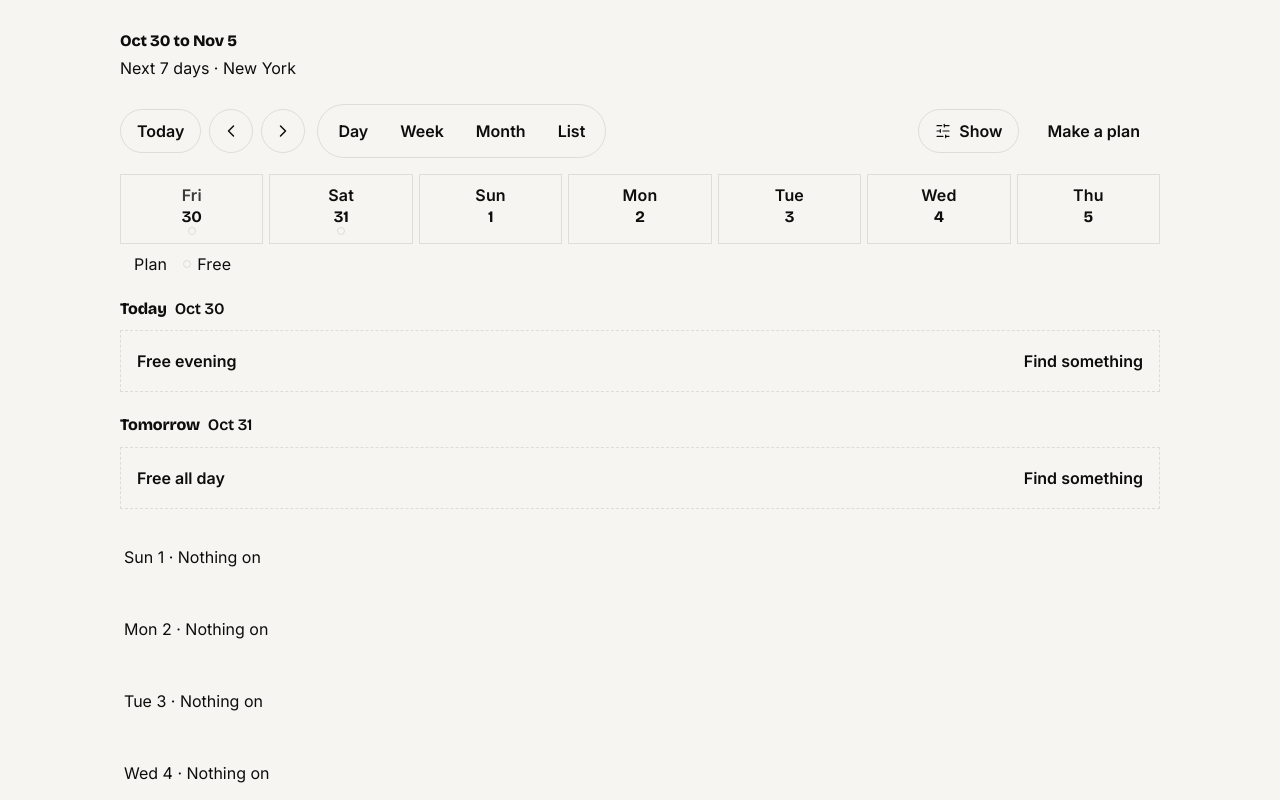
Test: Calendar, the four views › pages Week by 7 days and Day by 1
The width and height of the screenshot is (1280, 800).
Click the button named "Next week" at (283, 131), box [261,109,305,153]
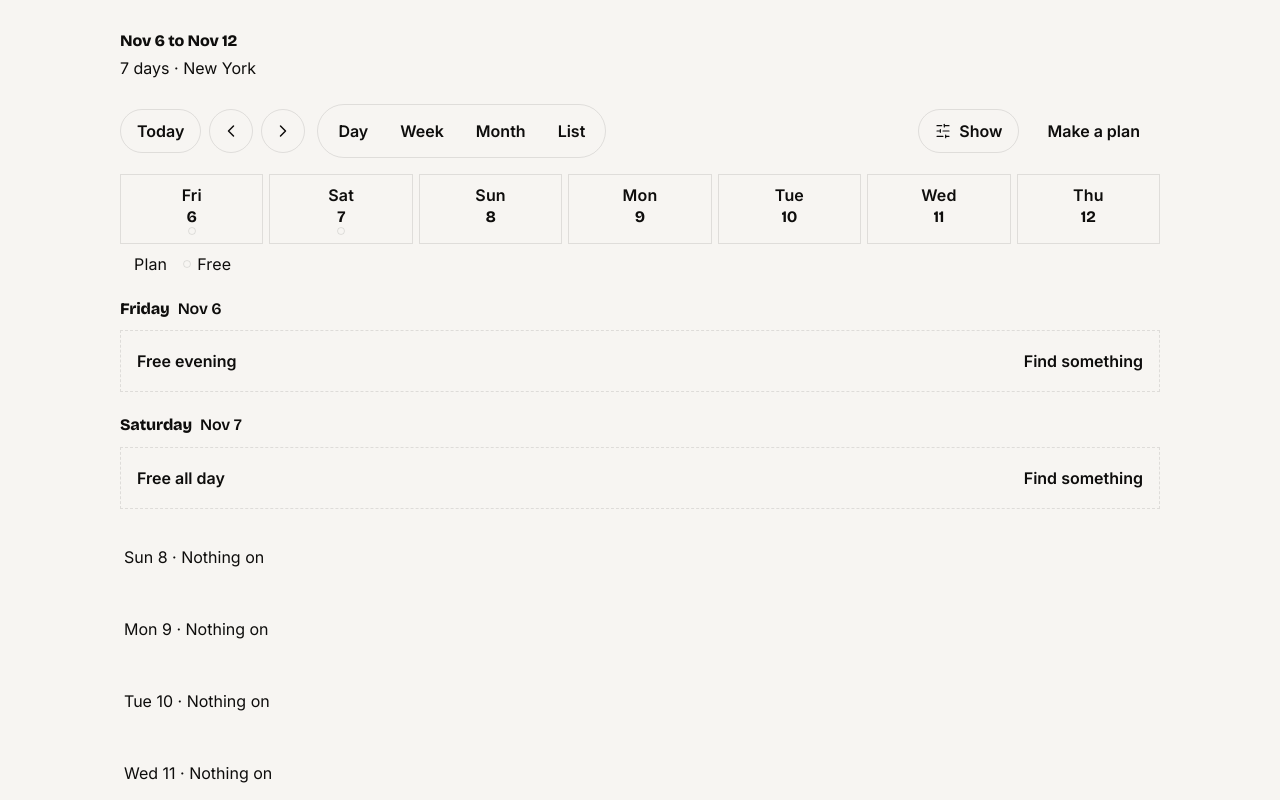
Expected: the text "7 days · New York" is shown, [120,58,256,78]
Expected: the heading "Nov 6 to Nov 12" is shown, [120,31,237,50]
